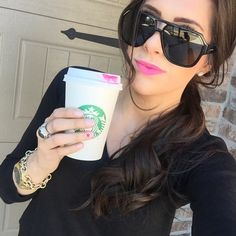sunglasses: (121, 5, 204, 64), (123, 12, 202, 64), (121, 30, 202, 64)
